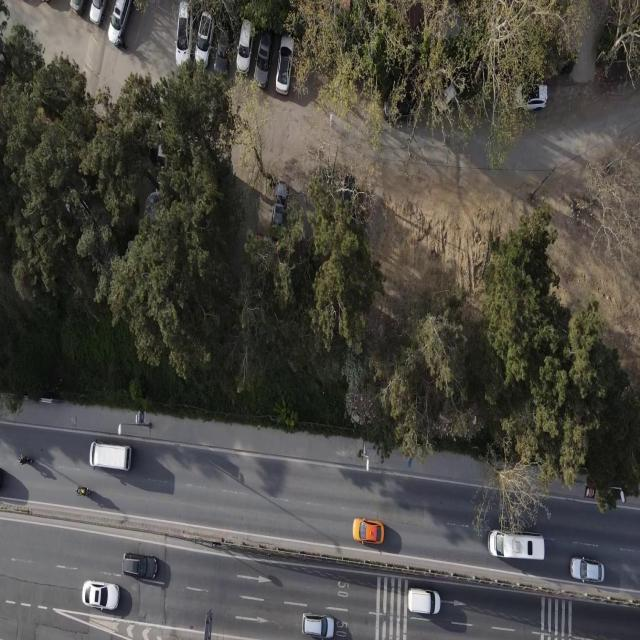p3rson: (118, 35, 125, 51)
